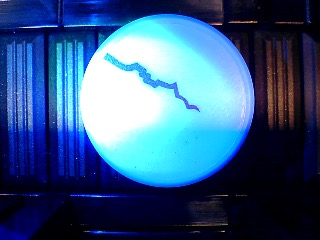CRACK: (79, 13, 255, 188)
